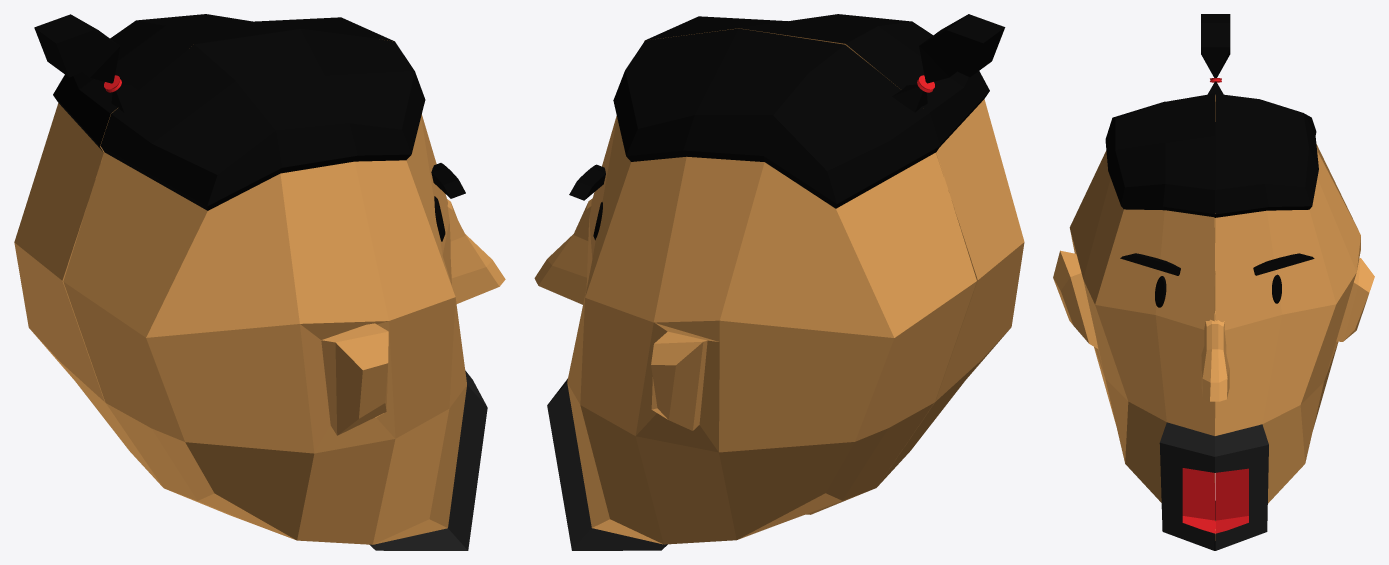
File: Kafa.fbx
3 renders of one model, left to right at view 1: azimuth 30°, elevation 25°; view 2: azimuth 150°, elevation 25°; view 3: azimuth 270°, elevation 25°, orthographic. The views are drawn at different scales.
Parts seen in each view (by area): view 1: KAFAAAAA!!!!; view 2: KAFAAAAA!!!!; view 3: KAFAAAAA!!!!.
Part boxes in pixels (x1,y1,x2,y2): KAFAAAAA!!!!: [14, 14, 505, 550]; KAFAAAAA!!!!: [534, 14, 1024, 550]; KAFAAAAA!!!!: [1053, 14, 1374, 550].
Size of the model in its own units: 204 by 254 by 184.
